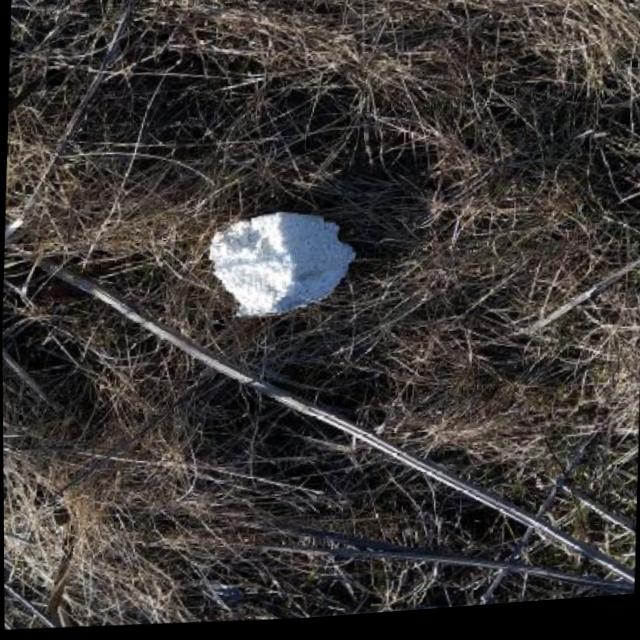foam: (206, 203, 358, 322)
